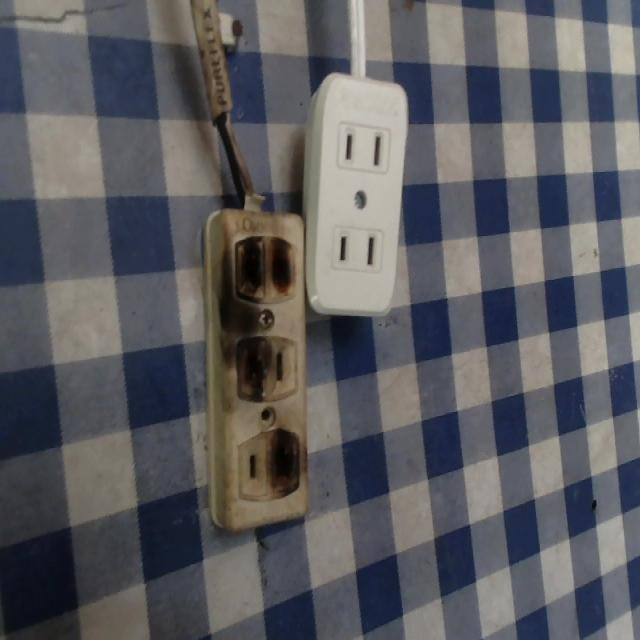-: (219, 224, 299, 311), (229, 325, 278, 403), (266, 424, 305, 500)
